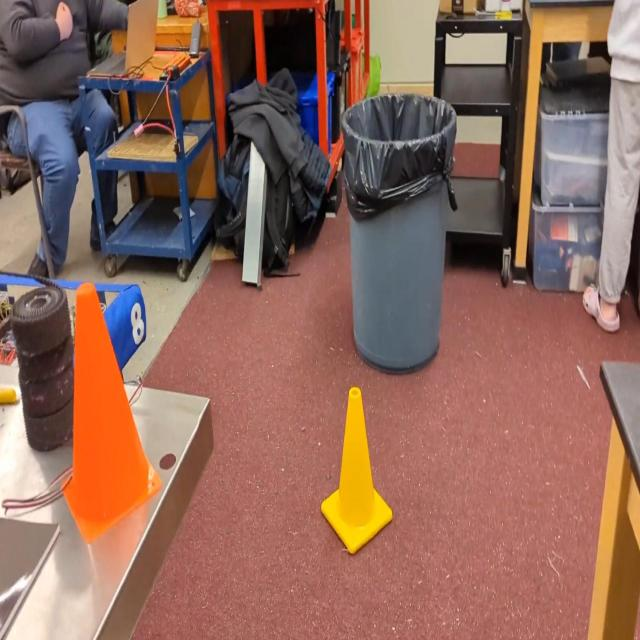frc_cone: (319, 386, 393, 556)
